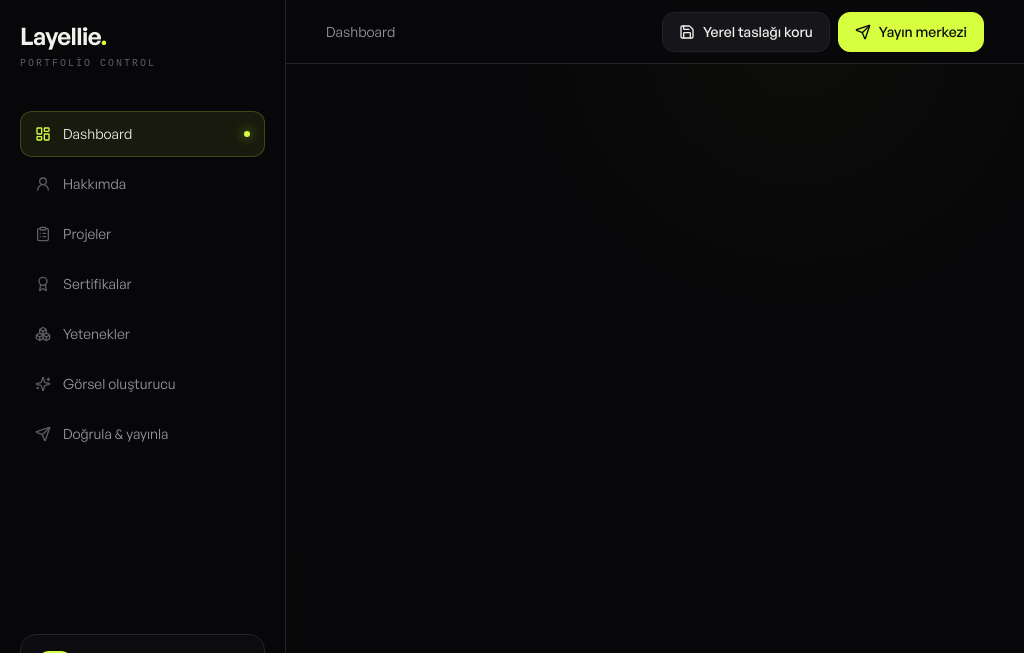
Test: AdminApp › opens project management without losing existing projects
The image size is (1024, 653).
Click the button "Projeler".
click(142, 234)  # box [20,211,265,257]
(page scrolled)
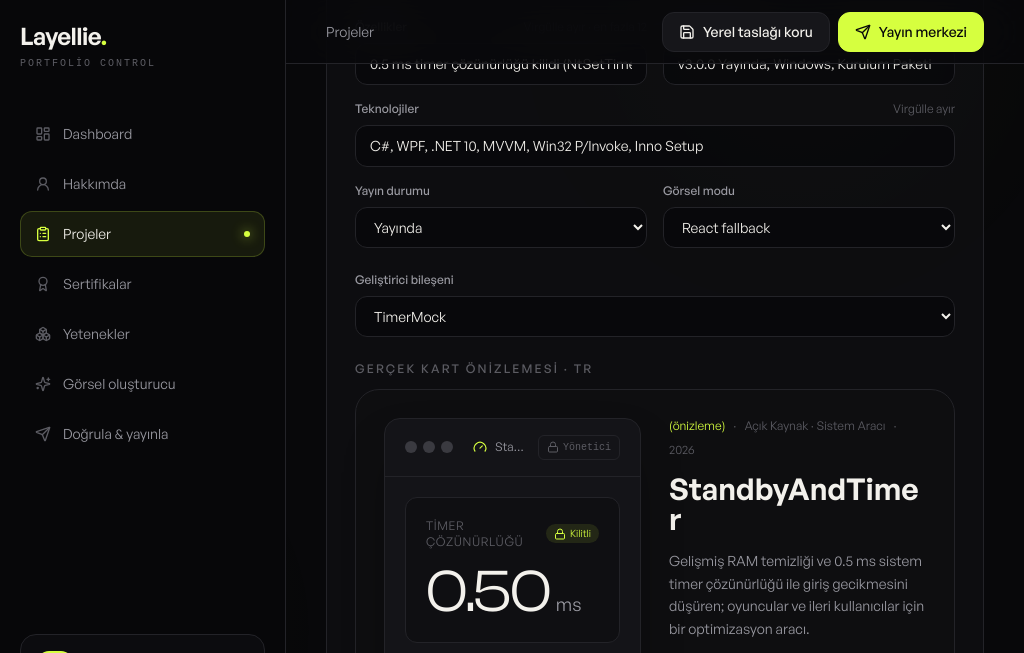
Expected: the text "Gerçek kart önizlemesi · TR" is shown, [355,361,593,376]
